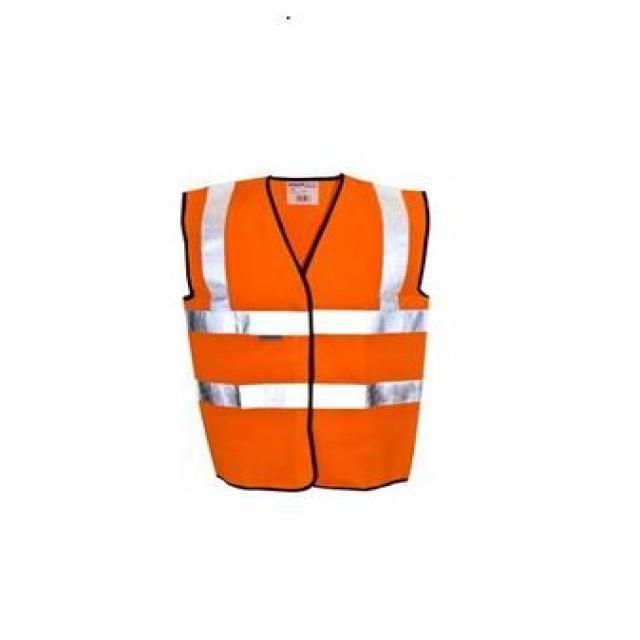Reflective-Jacket: (158, 167, 452, 491)
